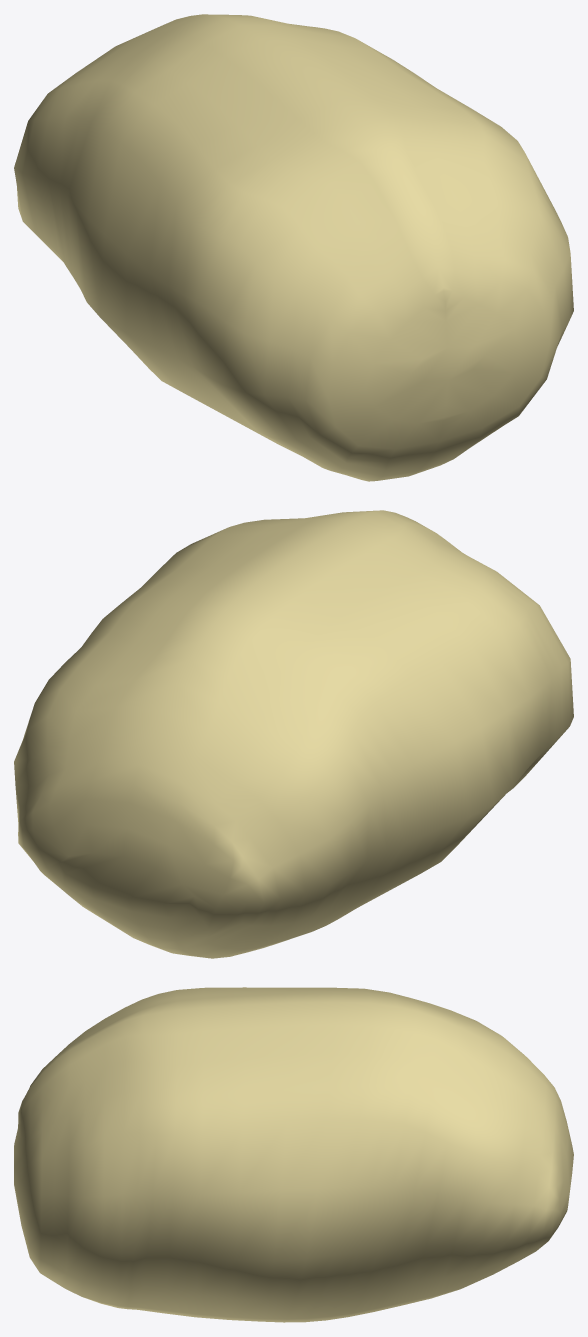
File: Potato.fbx
3 views of the same model, one above another, from view 1: azimuth 30°, elevation 25°; view 2: azimuth 150°, elevation 25°; view 3: azimuth 270°, elevation 25° (orthographic). The views are drawn at different scales.
Parts seen in each view (by area): view 1: polySurface1; view 2: polySurface1; view 3: polySurface1.
Boxes of the visible parts, box(x1,y1,x2,y2) form: polySurface1: box(14, 14, 573, 481); polySurface1: box(14, 510, 573, 958); polySurface1: box(14, 987, 573, 1322).
Size of the model in its own units: 31.57 by 27.75 by 45.03.
